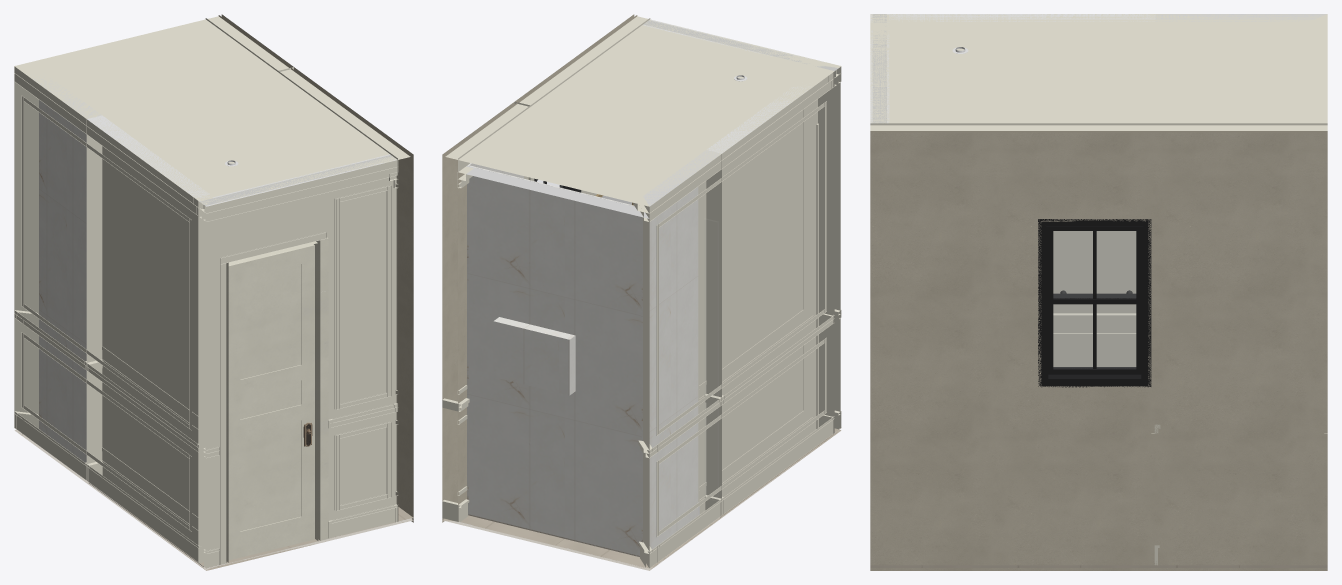
File: loli-bathroom-84e941bd5695.glb
3 views of the same model, side by side, from view 1: azimuth 30°, elevation 25°; view 2: azimuth 150°, elevation 25°; view 3: azimuth 270°, elevation 25° (orthographic). The views are drawn at different scales.
Parts seen in each view (by area): view 1: loli-bathroom-2575515a05775d9e, loli-bathroom-03bdd0165789d12b, loli-bathroom-0e637d2be41161fb, loli-bathroom-eceff908bd344cec, loli-bathroom-5795d1714989146e, loli-bathroom-e64cabe238f3e83a, loli-bathroom-319244b3406409d9, loli-bathroom-4a0606b58a607568, loli-bathroom-a8b6749dbb482e83, loli-bathroom-609bc1027670cc96, loli-bathroom-cc15fd6f291c811e, loli-bathroom-e2dd6cf138a61c96 (+19 smaller); view 2: loli-bathroom-51561c1911f47dcb, loli-bathroom-2575515a05775d9e, loli-bathroom-03bdd0165789d12b, loli-bathroom-5795d1714989146e, loli-bathroom-1c7325212038a6e7, loli-bathroom-e462de76b61e99cf, loli-bathroom-a90dd75c175210c7, loli-bathroom-0e637d2be41161fb, loli-bathroom-e64cabe238f3e83a, loli-bathroom-a8b6749dbb482e83, loli-bathroom-cc15fd6f291c811e, loli-bathroom-92c333610bf7beb4 (+13 smaller); view 3: loli-bathroom-319244b3406409d9, loli-bathroom-e462de76b61e99cf, loli-bathroom-2575515a05775d9e, loli-bathroom-15d1eb52c435a27e, loli-bathroom-03bdd0165789d12b, loli-bathroom-0e637d2be41161fb, loli-bathroom-3b0077416469e01b, loli-bathroom-76fec1e12e3db62a, loli-bathroom-1c7325212038a6e7, loli-bathroom-3b79cb6a0eb20f8c, loli-bathroom-687fd4d2e321b111.
Part boxes in pixels (x1,y1,x2,y2): loli-bathroom-2575515a05775d9e: [14, 15, 410, 201]; loli-bathroom-03bdd0165789d12b: [86, 115, 209, 560]; loli-bathroom-0e637d2be41161fb: [198, 154, 397, 568]; loli-bathroom-eceff908bd344cec: [228, 244, 314, 560]; loli-bathroom-5795d1714989146e: [39, 100, 86, 462]; loli-bathroom-e64cabe238f3e83a: [14, 78, 38, 428]; loli-bathroom-319244b3406409d9: [278, 67, 413, 521]; loli-bathroom-4a0606b58a607568: [318, 237, 328, 540]; loli-bathroom-a8b6749dbb482e83: [14, 412, 199, 562]; loli-bathroom-609bc1027670cc96: [206, 160, 398, 221]; loli-bathroom-cc15fd6f291c811e: [14, 67, 199, 216]; loli-bathroom-e2dd6cf138a61c96: [220, 232, 326, 564]; loli-bathroom-51561c1911f47dcb: [467, 165, 642, 556]; loli-bathroom-2575515a05775d9e: [445, 15, 840, 206]; loli-bathroom-03bdd0165789d12b: [707, 86, 833, 482]; loli-bathroom-5795d1714989146e: [641, 187, 698, 549]; loli-bathroom-1c7325212038a6e7: [643, 150, 721, 567]; loli-bathroom-e462de76b61e99cf: [442, 102, 530, 502]; loli-bathroom-a90dd75c175210c7: [493, 317, 575, 395]; loli-bathroom-0e637d2be41161fb: [643, 19, 840, 433]; loli-bathroom-e64cabe238f3e83a: [458, 165, 649, 548]; loli-bathroom-a8b6749dbb482e83: [649, 417, 834, 567]; loli-bathroom-cc15fd6f291c811e: [649, 72, 834, 221]; loli-bathroom-92c333610bf7beb4: [656, 101, 826, 435]; loli-bathroom-319244b3406409d9: [870, 123, 1155, 565]; loli-bathroom-e462de76b61e99cf: [1155, 123, 1327, 565]; loli-bathroom-2575515a05775d9e: [870, 14, 1327, 132]; loli-bathroom-15d1eb52c435a27e: [1038, 219, 1151, 387]; loli-bathroom-03bdd0165789d12b: [889, 14, 1155, 366]; loli-bathroom-0e637d2be41161fb: [870, 14, 889, 123]; loli-bathroom-3b0077416469e01b: [870, 565, 1327, 567]; loli-bathroom-76fec1e12e3db62a: [870, 568, 1327, 570]; loli-bathroom-1c7325212038a6e7: [1155, 14, 1326, 21]; loli-bathroom-3b79cb6a0eb20f8c: [1053, 313, 1136, 323]; loli-bathroom-687fd4d2e321b111: [872, 14, 883, 123].
Bounding box in the file's own units: 1.8 × 3.05 × 2.88.
42 materials, 7 textured.
